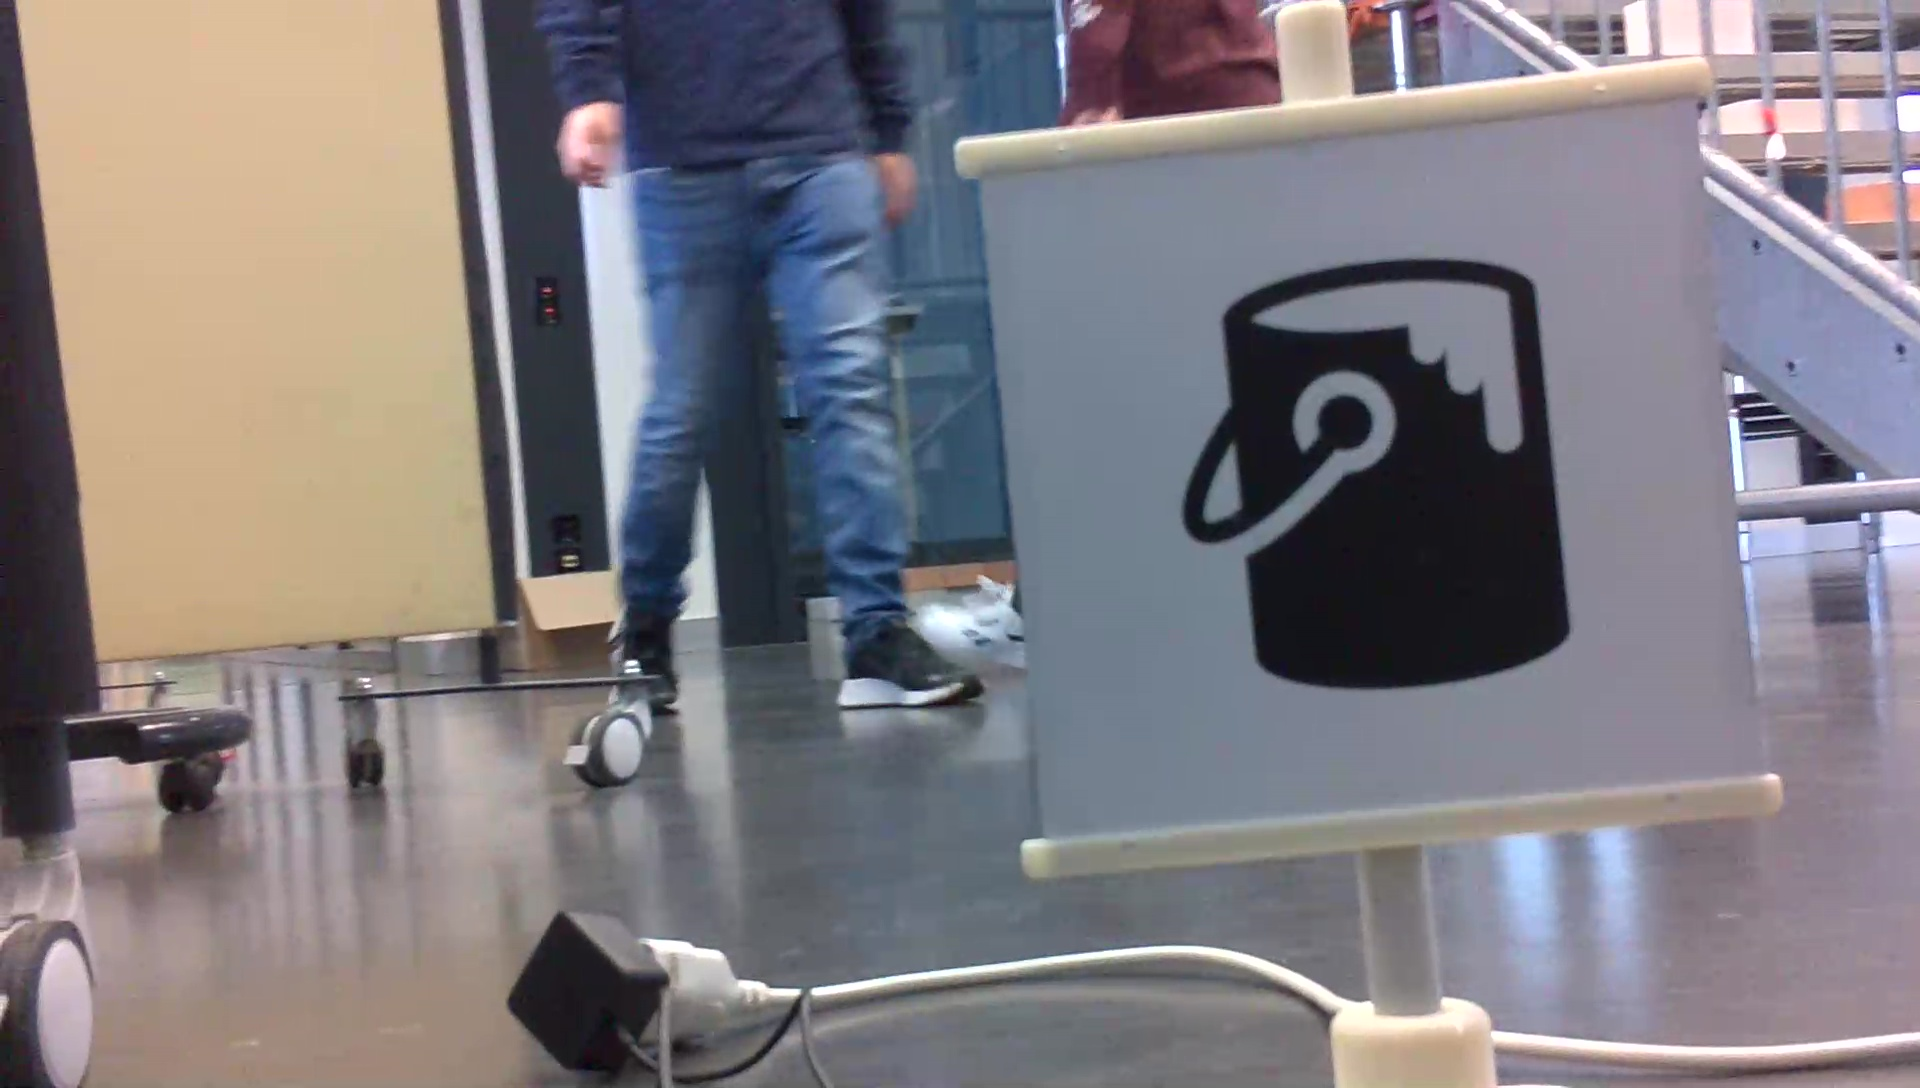bucket: (1168, 245, 1582, 706)
